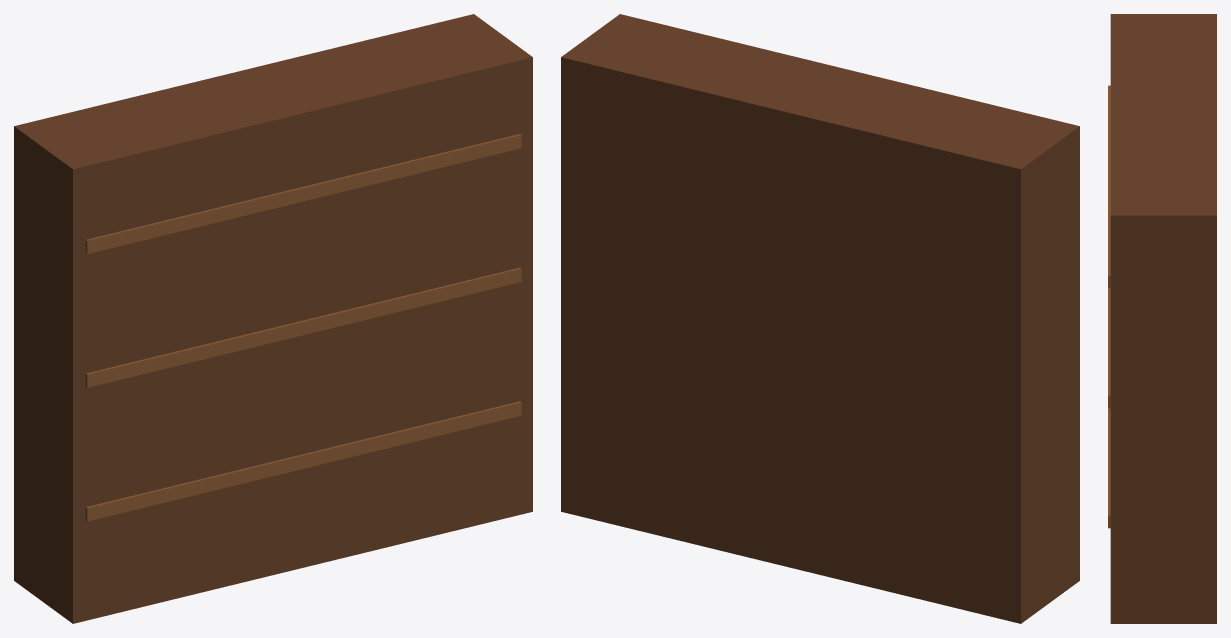
Rendered from f_potions.glb.
The picture shows the model from 3 angles, left to right: view 1: azimuth 30°, elevation 25°; view 2: azimuth 150°, elevation 25°; view 3: azimuth 270°, elevation 25°; orthographic projection. The views are drawn at different scales.
Parts seen in each view (by area): view 1: potions; view 2: potions; view 3: potions.
Boxes of the visible parts, <box> form: potions: <box>14,14,532,623</box>; potions: <box>561,14,1079,623</box>; potions: <box>1108,14,1216,623</box>.
Size of the model in its own units: 1.8 by 1.7 by 0.41.
